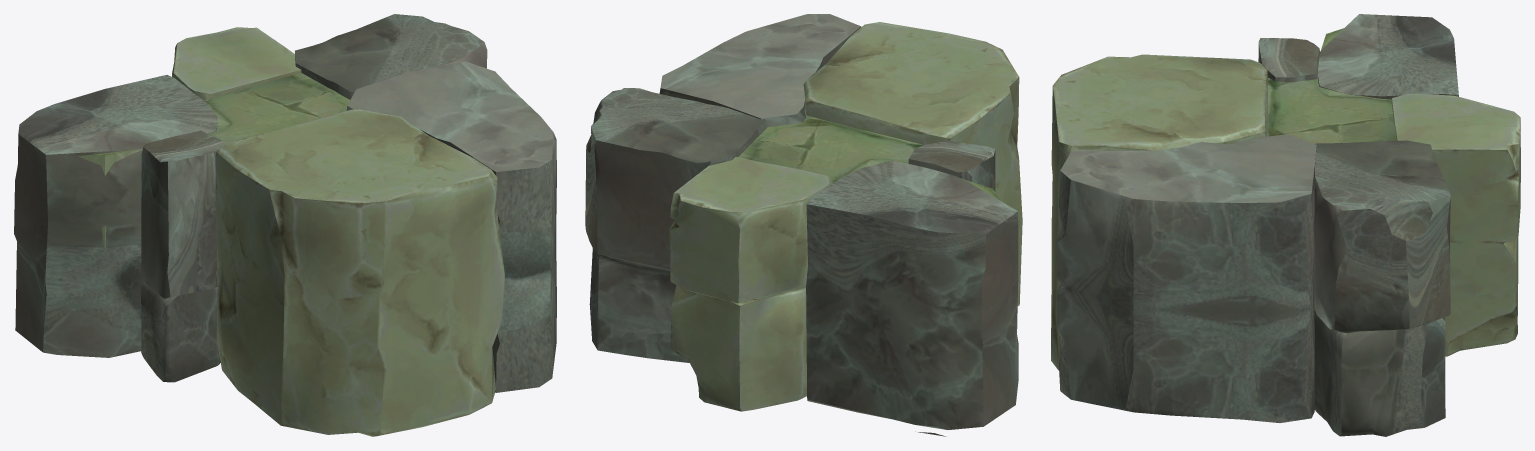
Rendered from Ruins_Wall_DMG_Top_Cnr_L_A.fbx.
The picture shows the model from 3 angles, left to right: view 1: azimuth 30°, elevation 25°; view 2: azimuth 150°, elevation 25°; view 3: azimuth 270°, elevation 25°; orthographic projection. The views are drawn at different scales.
Parts seen in each view (by area): view 1: Ruins_Wall_DMG_Top_Cnr_L_A; view 2: Ruins_Wall_DMG_Top_Cnr_L_A; view 3: Ruins_Wall_DMG_Top_Cnr_L_A.
Part boxes in pixels (x1,y1,x2,y2): Ruins_Wall_DMG_Top_Cnr_L_A: [14, 14, 556, 436]; Ruins_Wall_DMG_Top_Cnr_L_A: [585, 14, 1022, 436]; Ruins_Wall_DMG_Top_Cnr_L_A: [1051, 14, 1520, 436].
Bounding box in the file's own units: 569 × 297 × 533.
